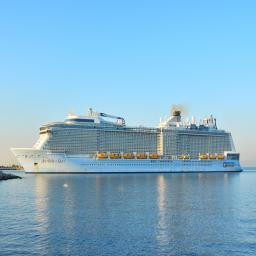cruises: (9, 104, 246, 177)
